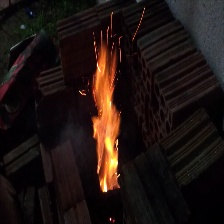fire: (82, 37, 135, 199)
